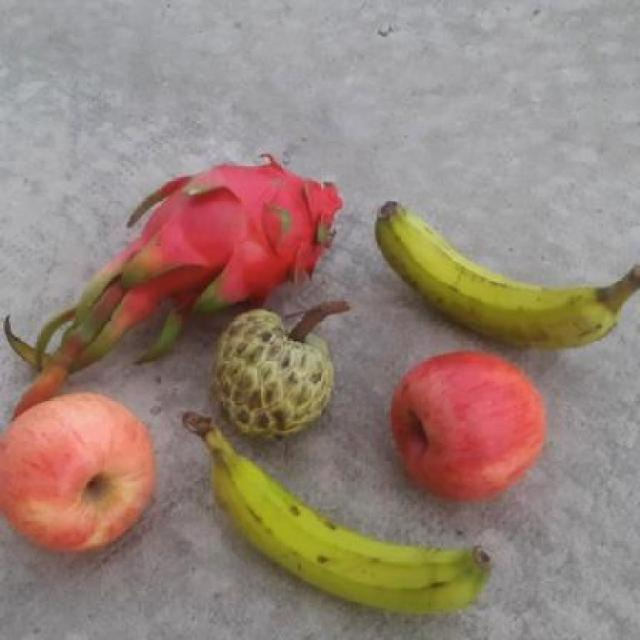apple: (388, 352, 552, 506)
banana: (187, 430, 505, 621), (375, 199, 639, 352), (0, 391, 171, 560)
dragon fruit: (122, 152, 366, 328)
sugar apple: (208, 304, 347, 447)
